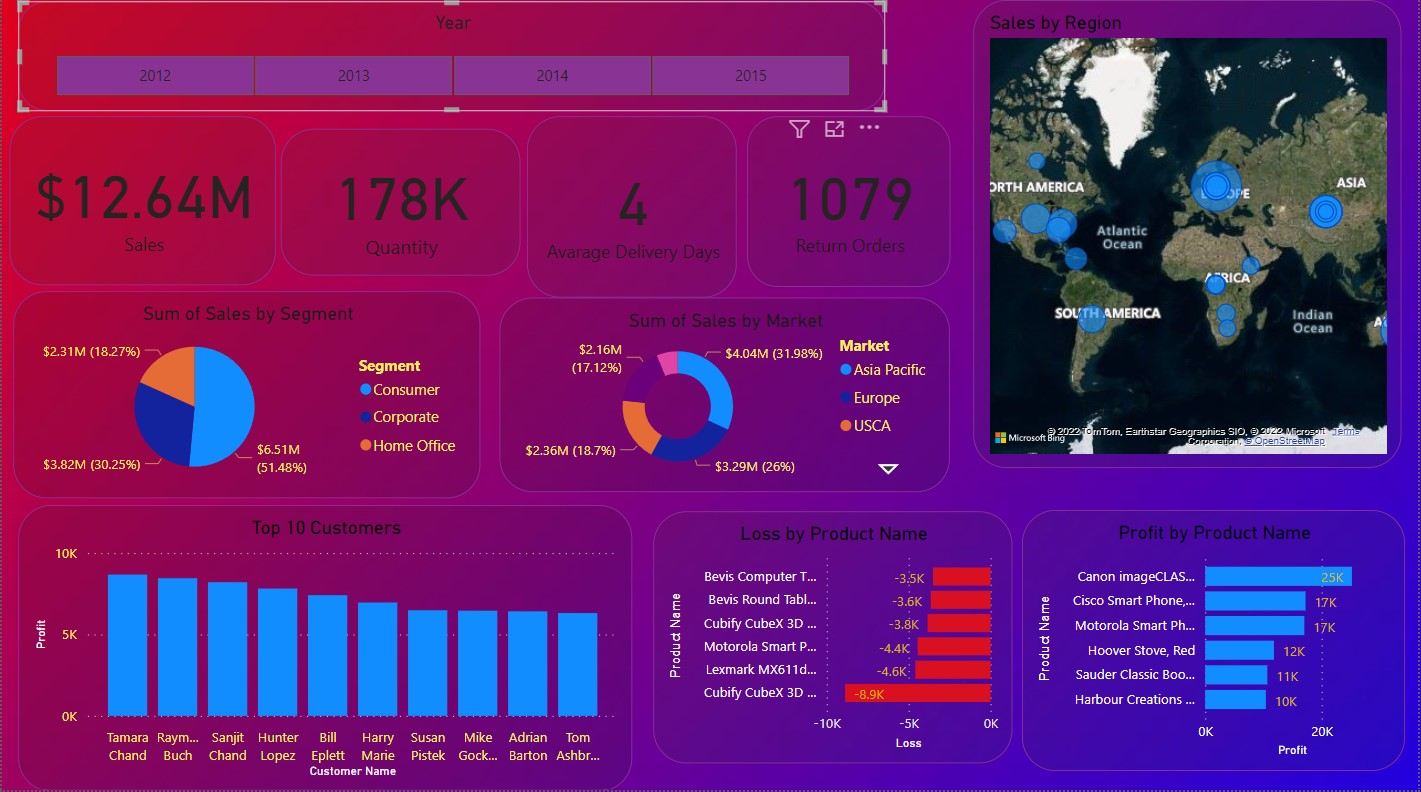

The dashboard page shown, as its layout file describes it:
{"tool":"powerbi","page":{"name":"Page 1","canvas":[1280,720],"ordinal":0},"visuals":[{"type":"card","fields":{"Values":["Orders.Sales"]},"box":[7,109.4,240.9,152.4],"z":0},{"type":"card","fields":{"Values":["Orders.Quantity"]},"box":[252.5,121,216.4,132.7],"z":1},{"type":"card","fields":{"Values":["Orders.Delivary Days"]},"box":[474.8,109.4,189.7,164.1],"z":2},{"type":"slicer","title":"Year","fields":{"Values":["Orders.Year"]},"box":[15.1,5.8,784.3,98.9],"z":3},{"type":"card","fields":{"Values":["Returns.Return Number"]},"box":[673.7,109.4,183.9,154.8],"z":4},{"type":"map","fields":{"Size":["Orders.Sales"],"Category":["Orders.Region"]},"box":[878.5,4.7,387.5,423.6],"z":5},{"type":"barChart","fields":{"Y":["Orders.Profit"],"Category":["Orders.Product Name"]},"box":[922.8,465.5,346.8,236.2],"z":6},{"type":"barChart","fields":{"Y":["Orders.Profit"],"Category":["Orders.Product Name"]},"box":[588.8,466.6,324.7,228.1],"z":7},{"type":"pieChart","fields":{"Category":["Orders.Segment"],"Y":["Orders.Sales"]},"box":[10.5,267.6,422.4,187.3],"z":8},{"type":"donutChart","fields":{"Y":["Orders.Sales"],"Category":["Orders.Market"]},"box":[450.3,273.5,407.3,175.7],"z":9},{"type":"columnChart","title":"Top 10 Customers","fields":{"Category":["Orders.Customer Name"],"Y":["Orders.Profit"]},"box":[15.1,460.8,555.1,259.5],"z":10}]}

Visuals, with their boxes in screenshot pixels (x1, y1, x2, y2), scaled from the page's 1280x720 canvas onto the 1421x792 screenshot:
card - Orders.Sales: l=8, t=120, r=275, b=288
card - Orders.Quantity: l=280, t=133, r=521, b=279
card - Orders.Delivary Days: l=527, t=120, r=738, b=301
"Year" slicer: l=17, t=6, r=887, b=115
card - Returns.Return Number: l=748, t=120, r=952, b=291
map - Orders.Sales x Orders.Region: l=975, t=5, r=1405, b=471
barChart - Orders.Profit x Orders.Product Name: l=1024, t=512, r=1409, b=772
barChart - Orders.Profit x Orders.Product Name: l=654, t=513, r=1014, b=764
pieChart - Orders.Segment x Orders.Sales: l=12, t=294, r=481, b=500
donutChart - Orders.Sales x Orders.Market: l=500, t=301, r=952, b=494
"Top 10 Customers" columnChart: l=17, t=507, r=633, b=791
